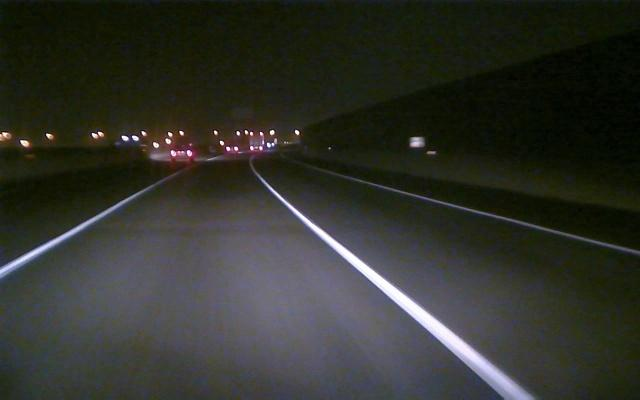lane: (261, 181, 538, 399), (335, 174, 640, 257), (2, 188, 148, 277)
